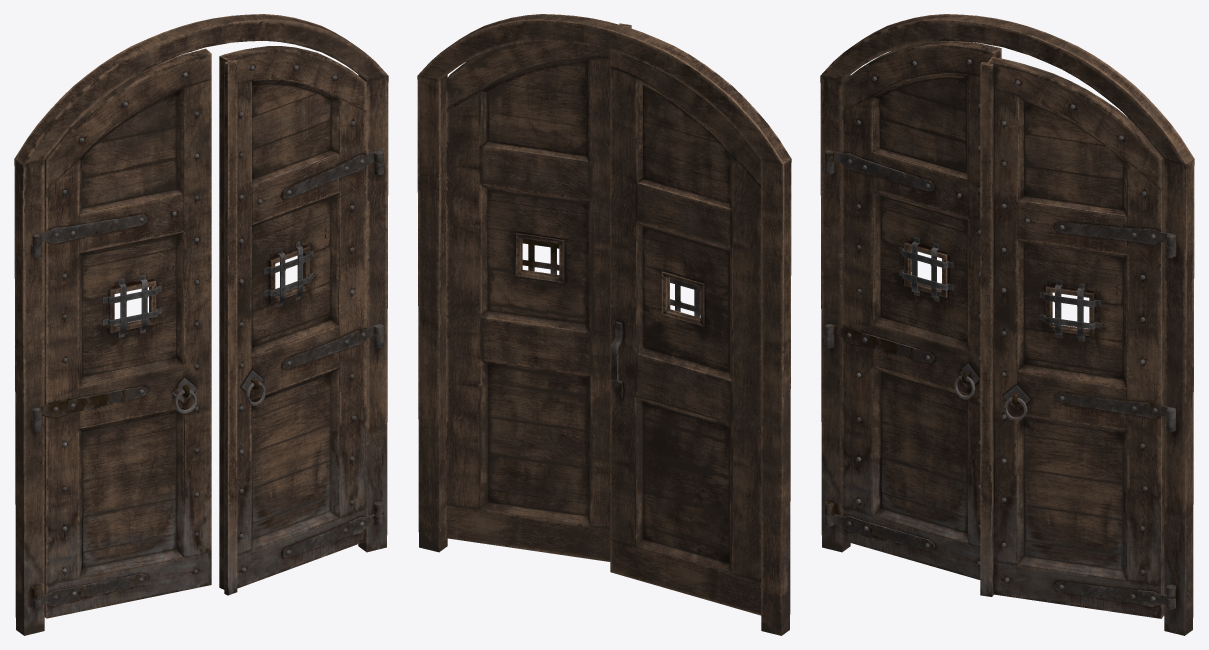
File: large_castle_door.glb
3 views of the same model, side by side, from view 1: azimuth 30°, elevation 25°; view 2: azimuth 150°, elevation 25°; view 3: azimuth 330°, elevation 25° (orthographic).
Parts seen in each view (by area): view 1: large_castle_door_left, large_castle_door_right, large_castle_door_frame; view 2: large_castle_door_right, large_castle_door_left, large_castle_door_frame; view 3: large_castle_door_right, large_castle_door_left, large_castle_door_frame.
Boxes of the visible parts, x1,y1,x2,y2 form: large_castle_door_left: (32, 48, 211, 618); large_castle_door_right: (219, 46, 383, 595); large_castle_door_frame: (14, 14, 388, 635); large_castle_door_right: (446, 23, 631, 561); large_castle_door_left: (610, 50, 761, 615); large_castle_door_frame: (417, 14, 791, 635); large_castle_door_right: (980, 57, 1175, 618); large_castle_door_left: (824, 41, 1001, 579); large_castle_door_frame: (820, 14, 1194, 635).
Bounding box in the file's own units: 2.01 × 2.96 × 0.2963.
Materials: 1 (1 with a texture image).
